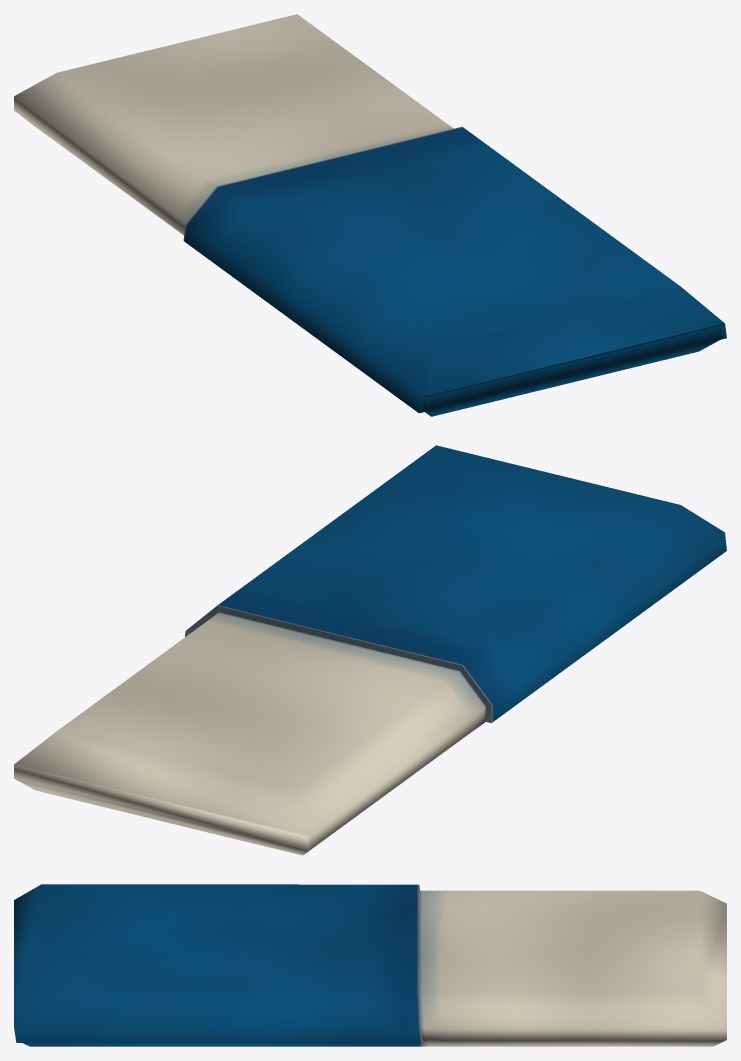
File: Mattress.obj
The picture shows the model from 3 angles, top to bottom: view 1: azimuth 30°, elevation 25°; view 2: azimuth 150°, elevation 25°; view 3: azimuth 270°, elevation 25°; orthographic projection. The views are drawn at different scales.
Parts seen in each view (by area): view 1: pCube2; view 2: pCube2; view 3: pCube2.
Boxes of the visible parts, bbox=[...] form: pCube2: bbox=[14, 14, 726, 416]; pCube2: bbox=[14, 445, 726, 855]; pCube2: bbox=[14, 884, 726, 1046].
Bounding box in the file's own units: 1.23 × 0.2405 × 2.86.
Materials: 1 (1 with a texture image).
